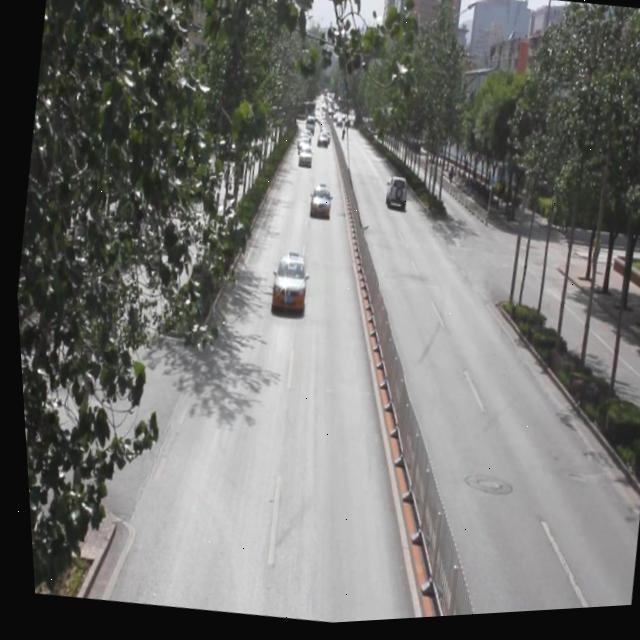car: (264, 252, 308, 322), (303, 186, 332, 226), (380, 178, 405, 214)
